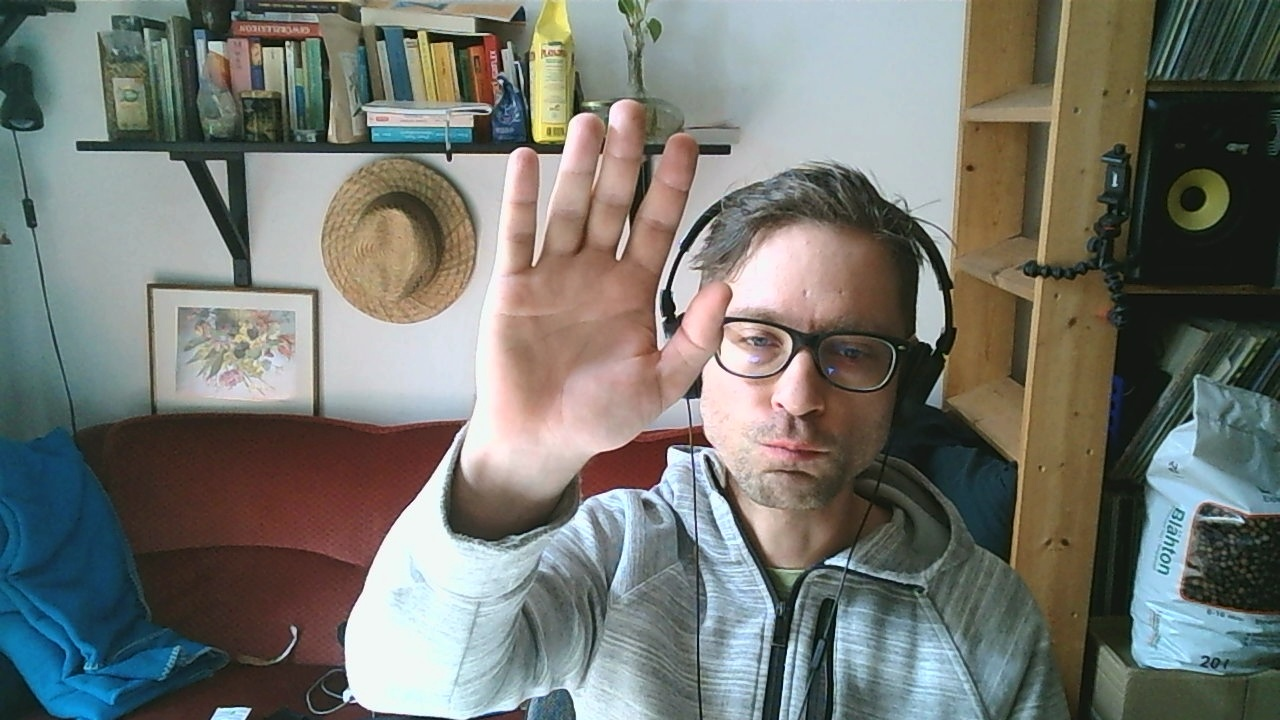hello: (475, 98, 733, 463)
